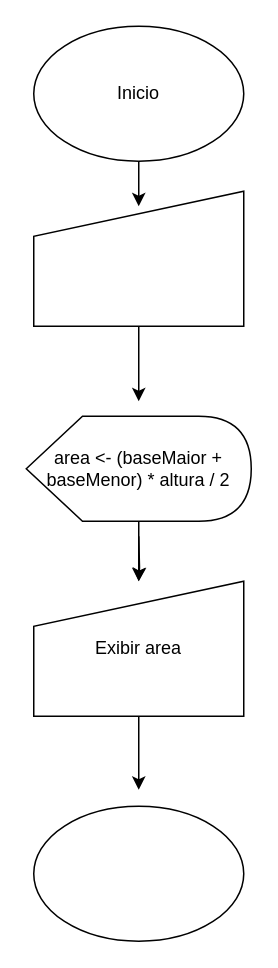
Image size: 278x968. Some labels were removed from this diagram. The shapes that lost their labels are listed below. From the top down, each one's centre as x and y in pixels, then its label:
[138,258]: eia baseMaior, baseMenor, altura
[138,873]: Fim
